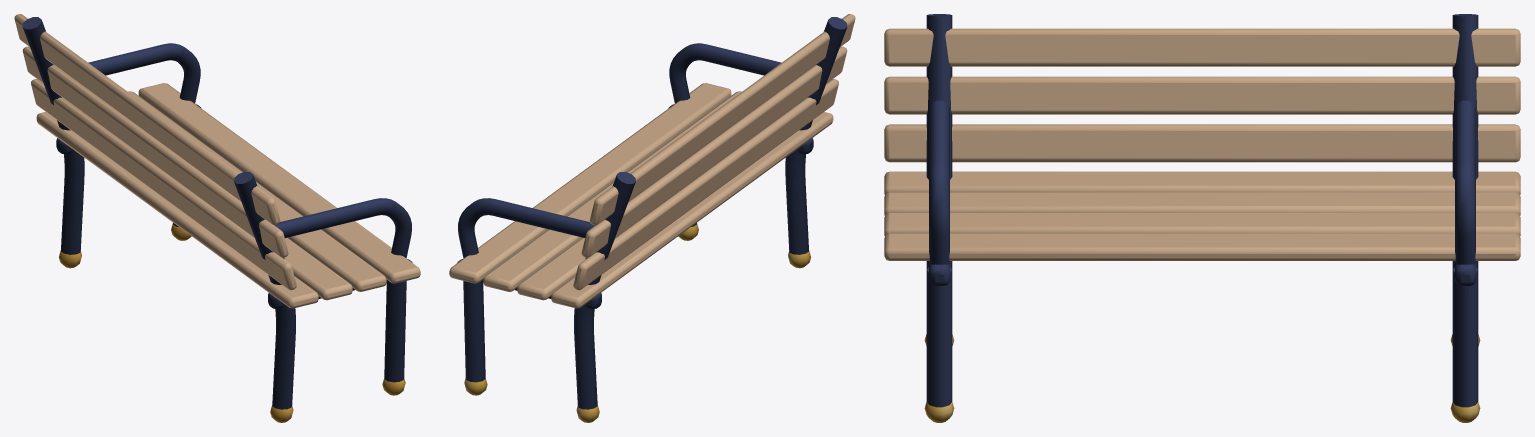
File: bench.glb
3 views of the same model, side by side, from view 1: azimuth 30°, elevation 25°; view 2: azimuth 150°, elevation 25°; view 3: azimuth 270°, elevation 25° (orthographic). The views are drawn at different scales.
Visible parts, largest first — view 1: Bench; view 2: Bench; view 3: Bench.
Boxes of the visible parts, box(x1,y1,x2,y2) form: Bench: box(14, 14, 420, 422); Bench: box(449, 14, 855, 422); Bench: box(884, 14, 1520, 422).
Size of the model in its own units: 0.5969 by 0.8296 by 1.5.
